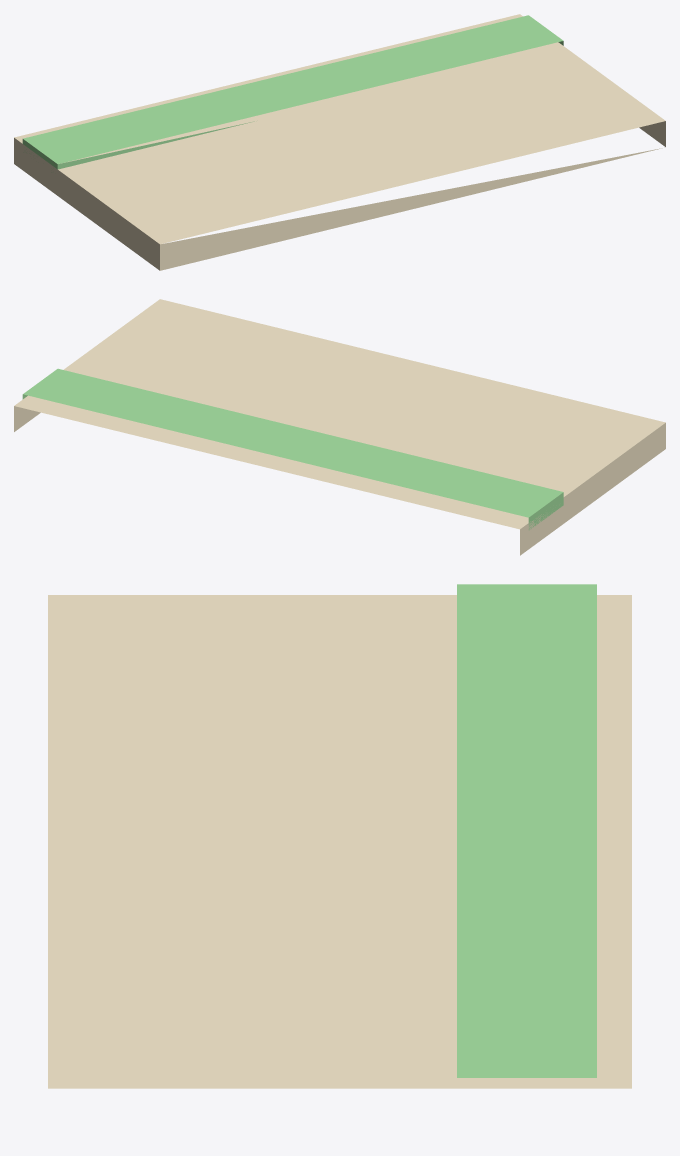
File: ASTX_TERRAIN_BEACH.glb
3 renders of one model, top to bottom at view 1: azimuth 30°, elevation 25°; view 2: azimuth 150°, elevation 25°; view 3: azimuth 270°, elevation 25°, orthographic. The views are drawn at different scales.
Parts seen in each view (by area): view 1: ASTX_TERRAIN_BEACH_sand, ASTX_TERRAIN_BEACH_grasslip; view 2: ASTX_TERRAIN_BEACH_sand, ASTX_TERRAIN_BEACH_grasslip; view 3: ASTX_TERRAIN_BEACH_sand, ASTX_TERRAIN_BEACH_grasslip.
Boxes of the visible parts, bbox=[...] form: ASTX_TERRAIN_BEACH_sand: bbox=[14, 14, 665, 270]; ASTX_TERRAIN_BEACH_grasslip: bbox=[22, 15, 563, 172]; ASTX_TERRAIN_BEACH_sand: bbox=[14, 299, 665, 555]; ASTX_TERRAIN_BEACH_grasslip: bbox=[22, 368, 563, 530]; ASTX_TERRAIN_BEACH_sand: bbox=[48, 595, 631, 1088]; ASTX_TERRAIN_BEACH_grasslip: bbox=[457, 584, 596, 1077].
Bounding box in the file's own units: 10 × 0.6 × 5.
